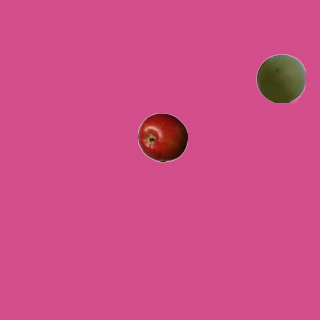Apple Braeburn: (137, 112, 187, 162)
Grape White 4: (255, 53, 305, 103)
